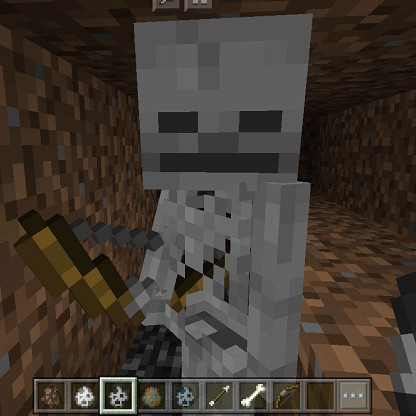skeleton: (126, 12, 324, 368)
